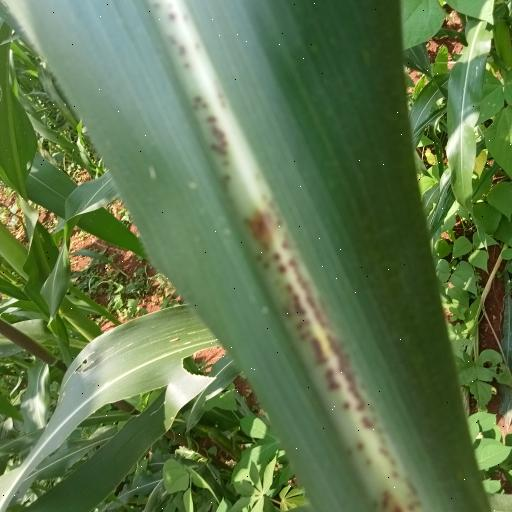Corn_Brown_Spots: (37, 7, 489, 512)
